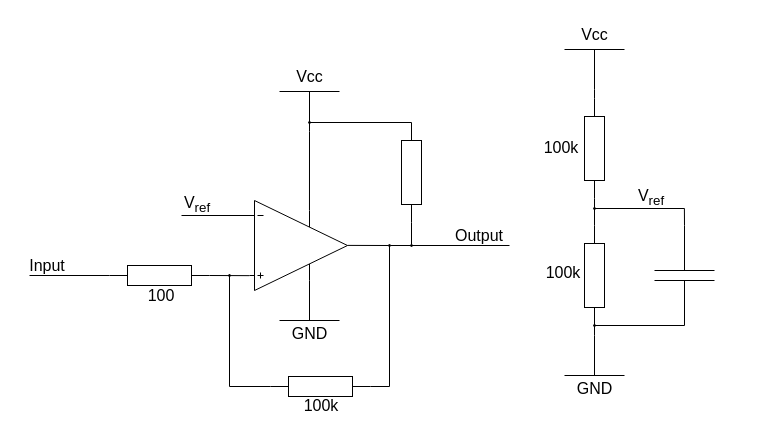
Some shapes in this 763 by 437 pixel diagram are drawn without their labels. The shapes that lost their labels are listed below. From the top down, each one's box as (x1, y1, x2, y2) in pixels, then its label:
(400, 122, 422, 222): 10k
(248, 200, 348, 290): LM339
(654, 224, 714, 326): 100nF
